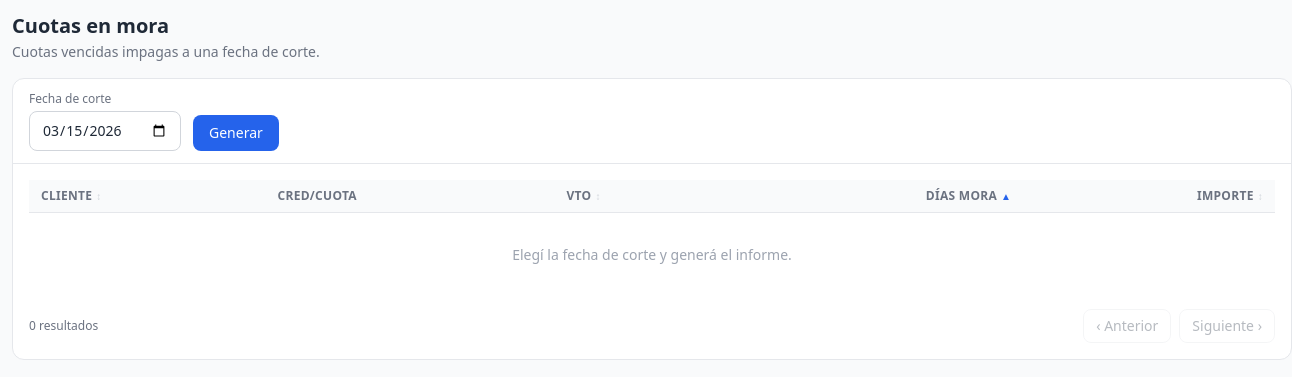
Test case: Cuotas en mora › genera el informe a la fecha de corte y muestra el total
This screenshot has width=1292, height=377.
What coordinates should you click on to do the following:
click the button "Generar"
I would click on:
 (236, 133)
Its box is [193, 115, 279, 151].
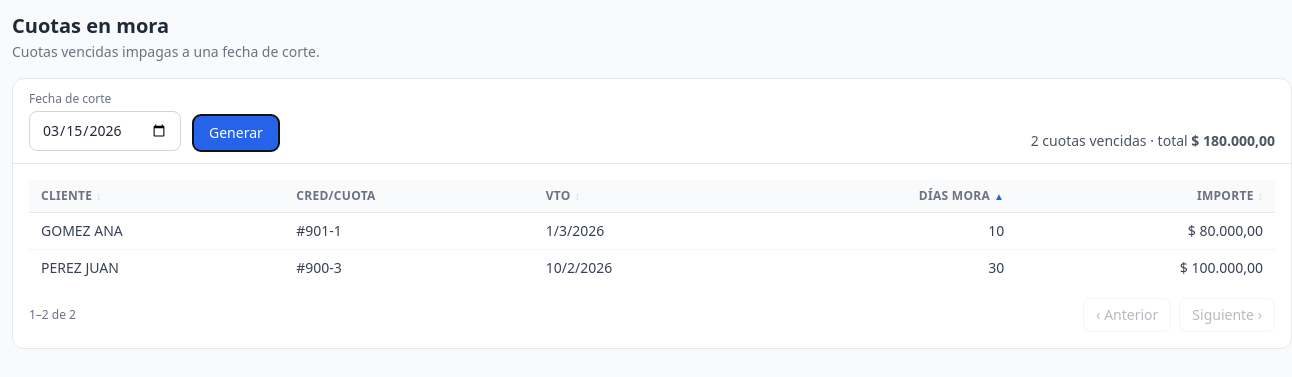
Check: the text "PEREZ JUAN" is shown, box [29, 250, 284, 286]
Check: the text "#900-3" is shown, box [284, 250, 534, 286]
Check: the text "2 cuotas vencidas · total $ 180.000,00" is shown, box [1031, 131, 1275, 151]
